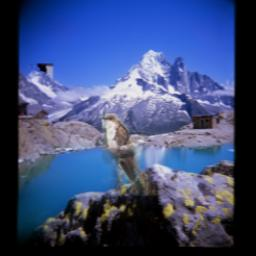Crow: (26, 65, 52, 155)
Cuckoo: (102, 114, 155, 197)
